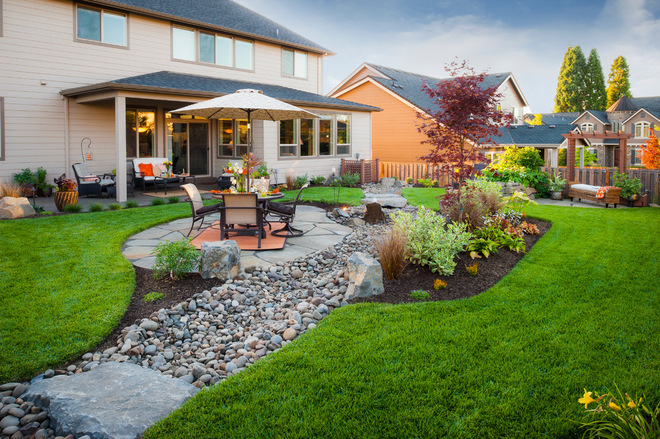grass: (317, 301, 543, 433), (547, 204, 659, 433), (0, 209, 131, 364), (202, 345, 311, 431)
rock: (5, 247, 378, 434)
